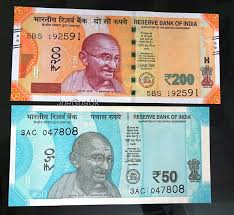twoHundred: (30, 24, 202, 90)
